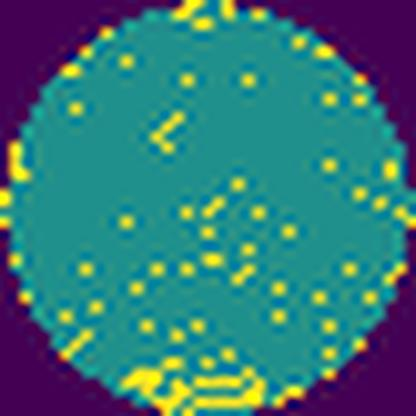Edge-Loc: (120, 364, 266, 416)
